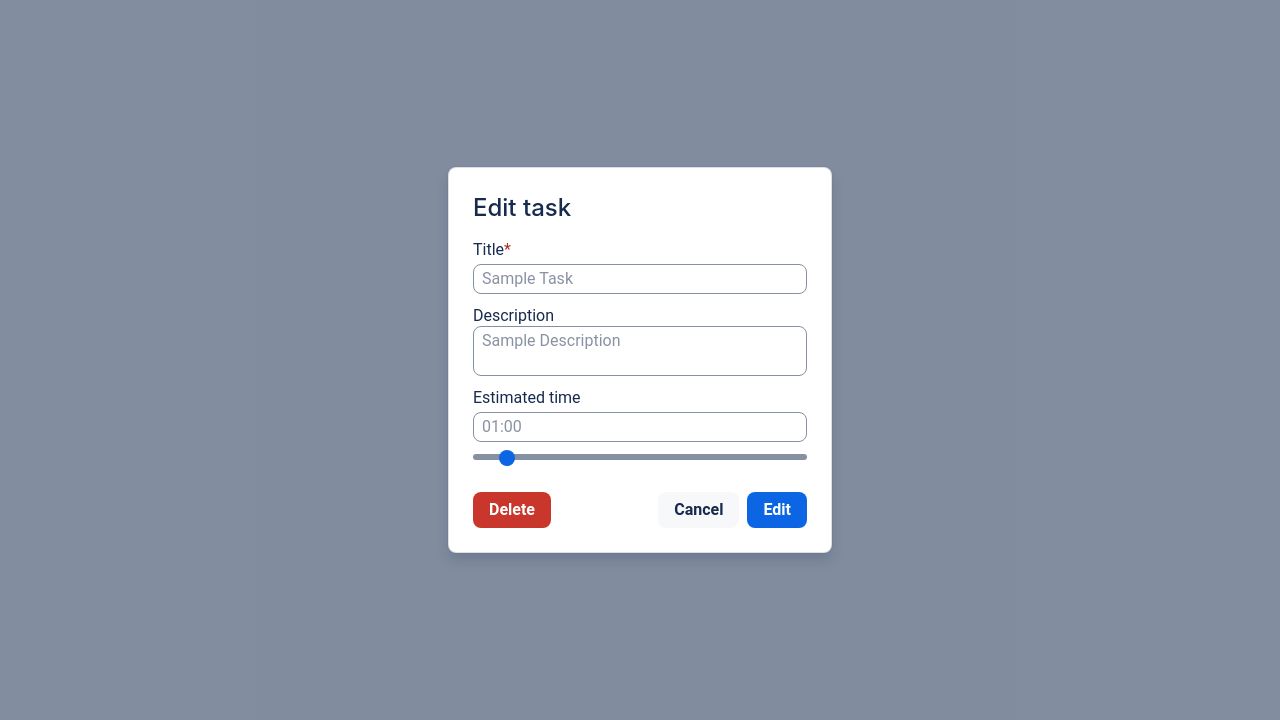
Test: EditTaskModal Component › handles input changes
Replace the text in the field with placeholder "Enter task title" with "Updated Task" at point(640, 279), box 482,269 -> 798,289
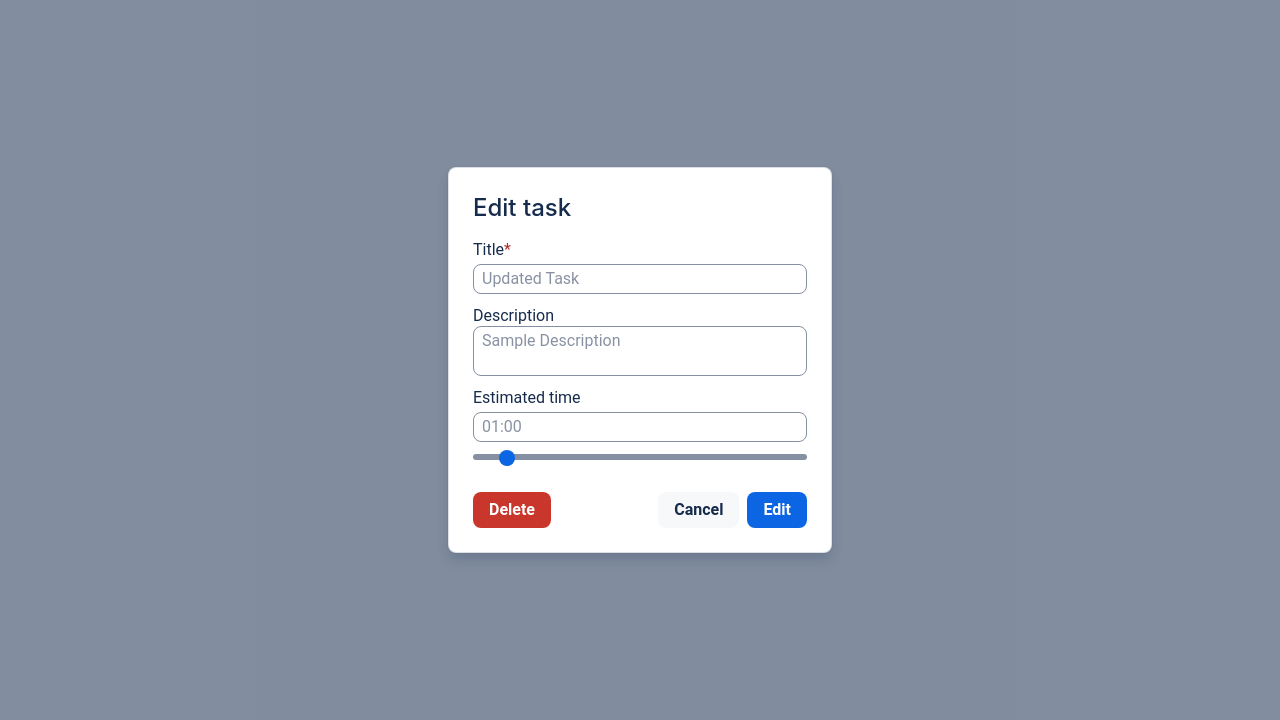
Replace the text in the text box with placeholder "Enter task description" with "Updated Description" at point(640, 351), box 482,331 -> 798,371
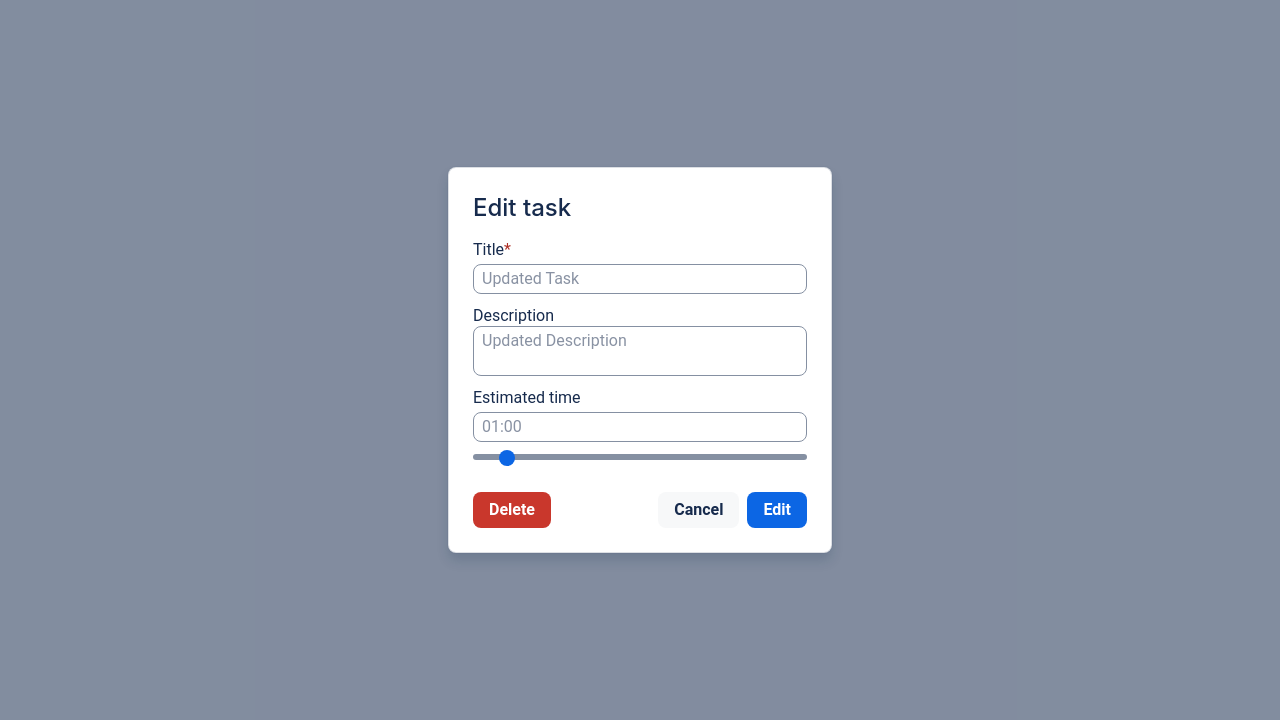
Replace the text in the field with placeholder "HH:MM" with "120" at point(640, 427), box 482,417 -> 798,437
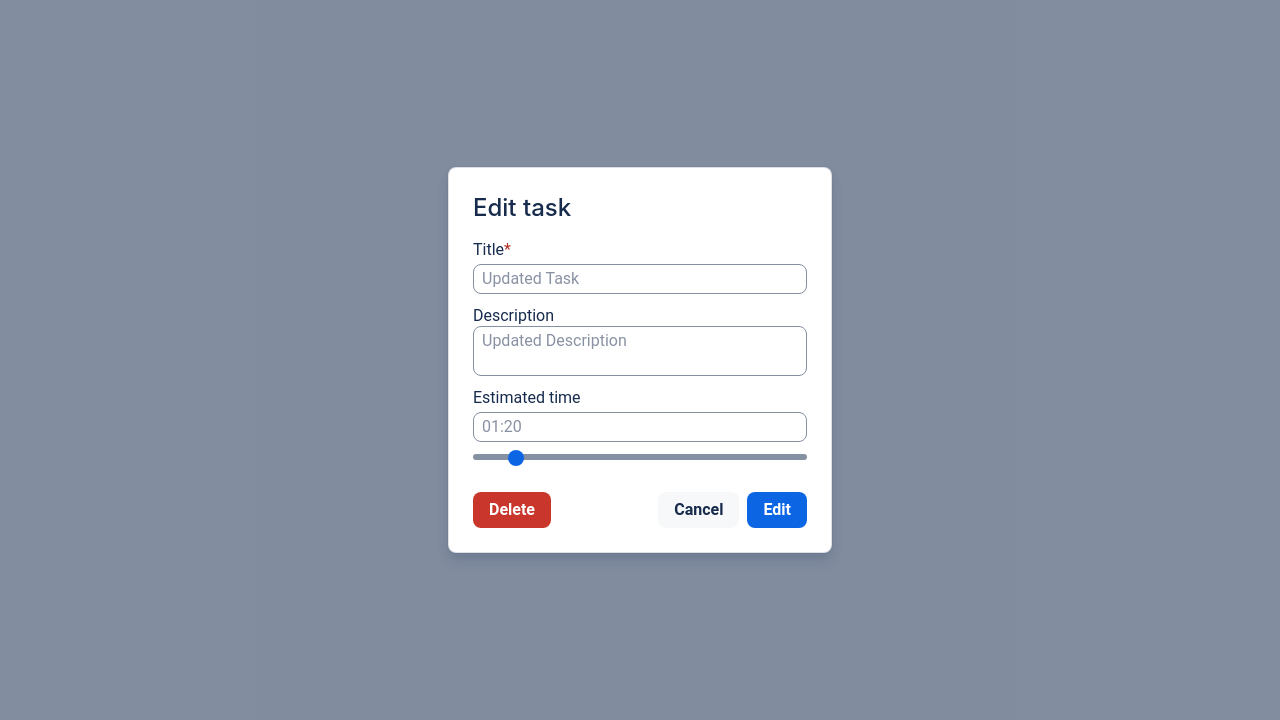
Expected: the field with placeholder "HH:MM" holds "01:20", 482,417 -> 798,437
